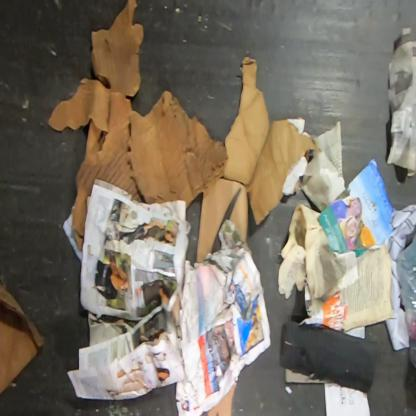cardboard: (46, 0, 229, 253), (279, 317, 380, 394), (0, 281, 46, 405)
soft_plastic: (395, 228, 415, 372)
